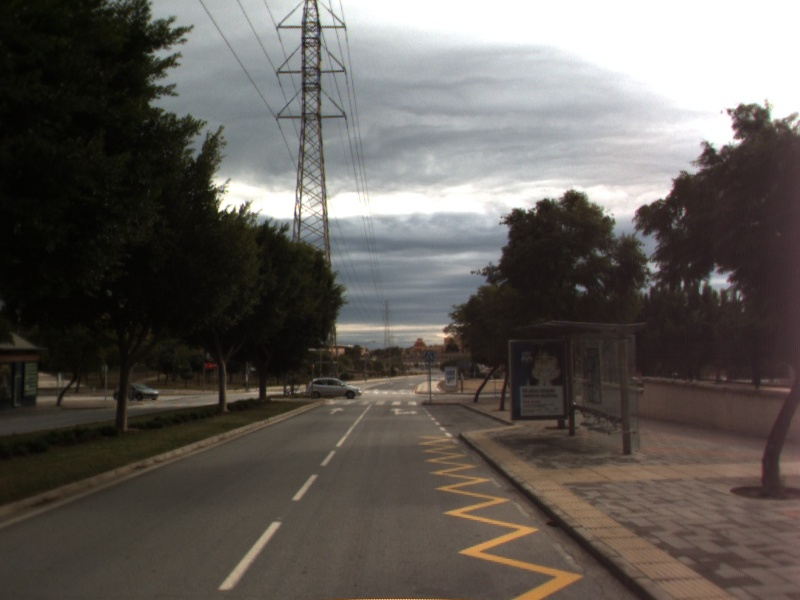STRAIGHT: (326, 405, 347, 416)
STRAIGHT_RIGHT: (388, 406, 420, 417)
